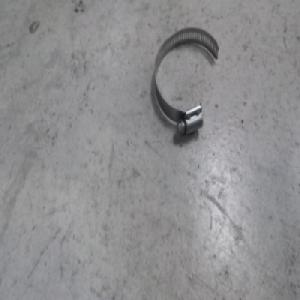AdjustableClamp: (150, 20, 220, 128)
